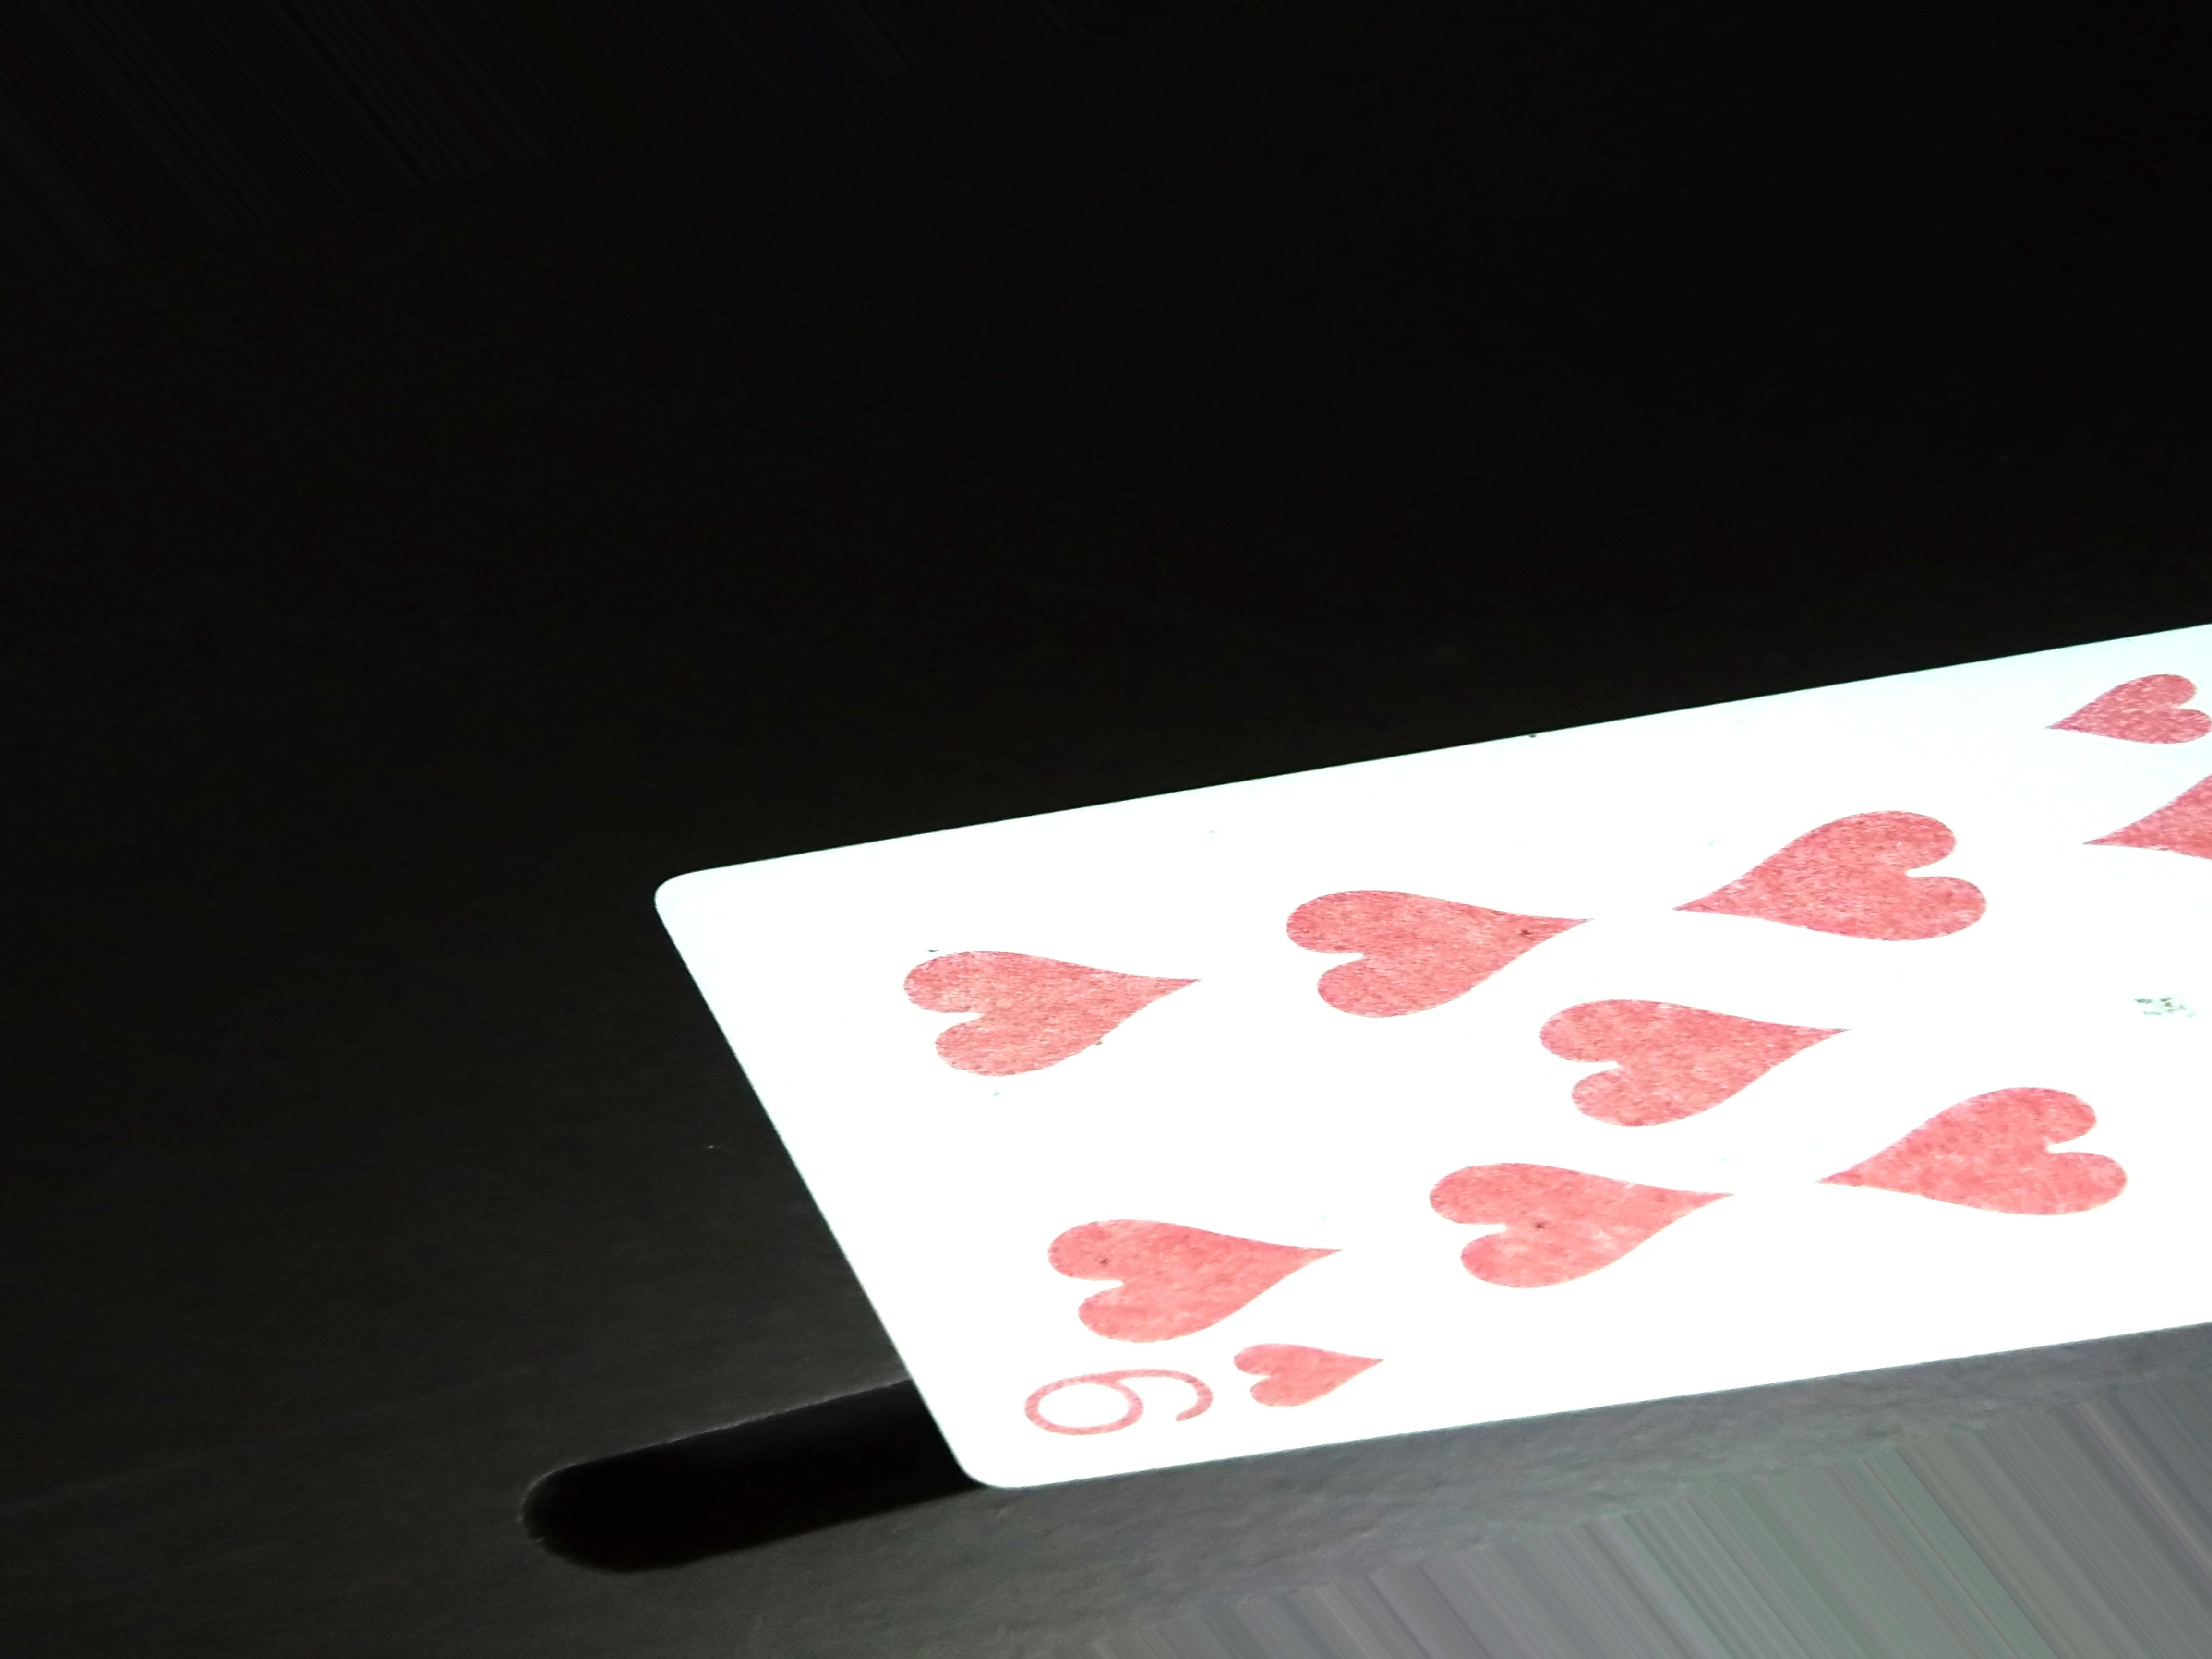9H: (988, 1349, 1428, 1466)
